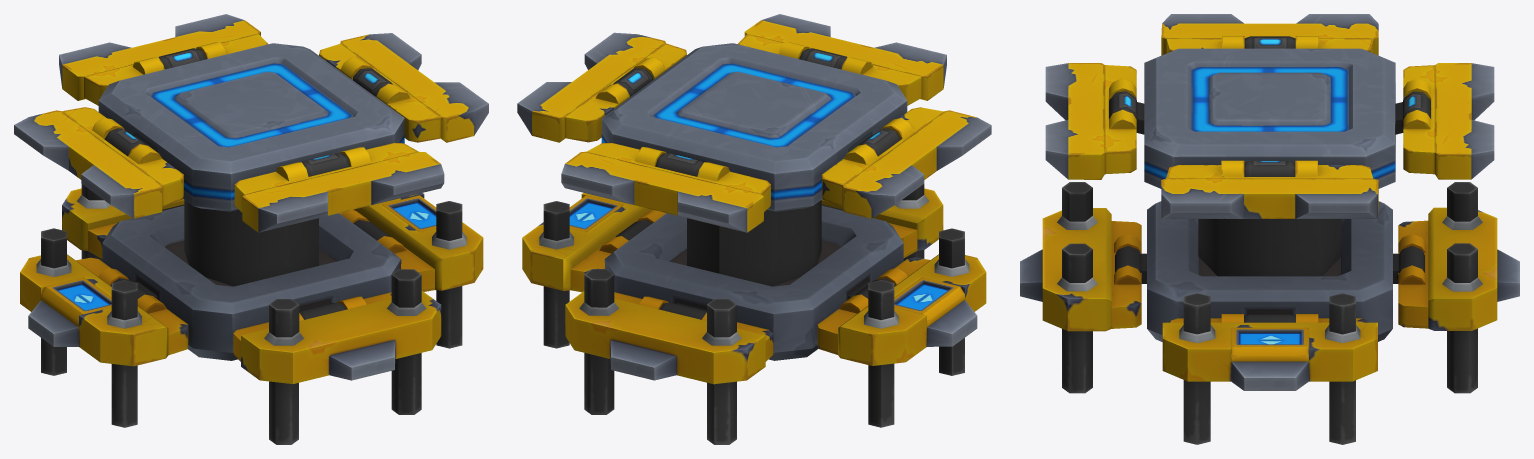
Rendered from p_mesh_lift_dissolve.fbx.
The picture shows the model from 3 angles, left to right: view 1: azimuth 30°, elevation 25°; view 2: azimuth 150°, elevation 25°; view 3: azimuth 270°, elevation 25°; orthographic projection. The views are drawn at different scales.
Parts seen in each view (by area): view 1: p_lift_whole; view 2: p_lift_whole; view 3: p_lift_whole.
Boxes of the visible parts, x1,y1,x2,y2 form: p_lift_whole: (14,14,488,444); p_lift_whole: (517,14,991,444); p_lift_whole: (1020,14,1519,444).
Bounding box in the file's own units: 4.39 × 2.53 × 4.39.
